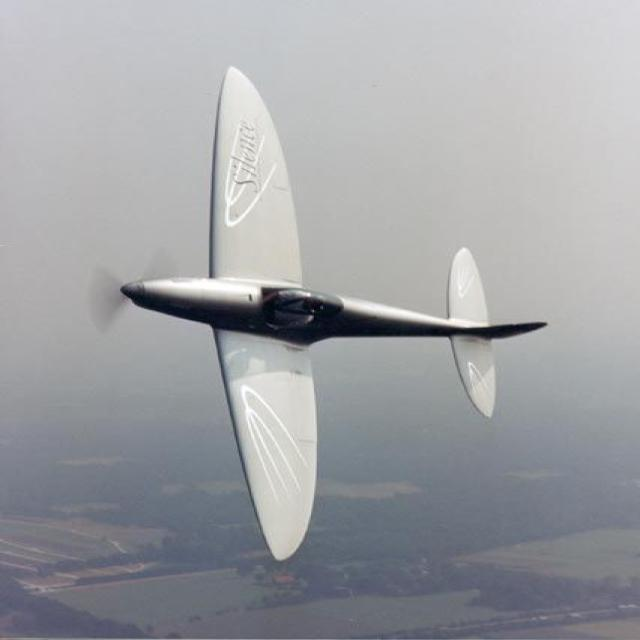iha: (126, 64, 548, 562)
